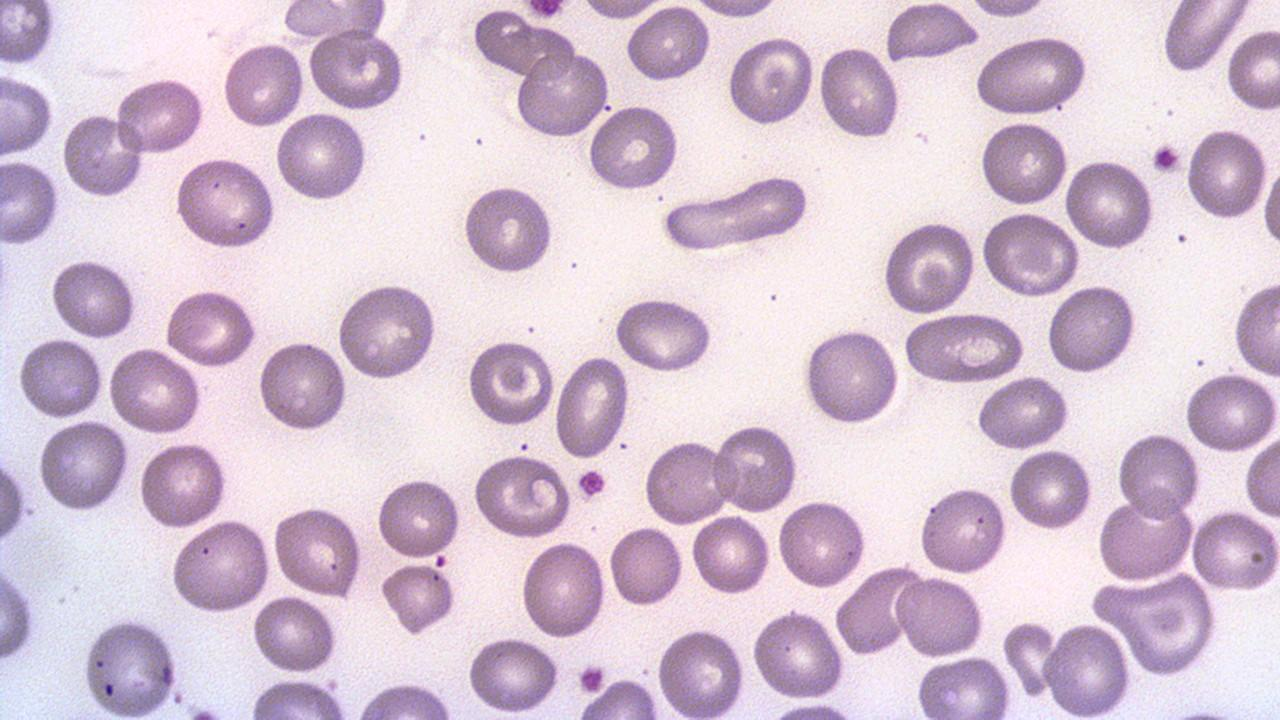Platelets: (1150, 141, 1184, 175), (576, 466, 608, 500)
RBC: (663, 172, 809, 258), (335, 279, 440, 382), (1113, 573, 1215, 679), (800, 326, 903, 428), (79, 616, 182, 717), (169, 516, 273, 616), (173, 155, 278, 252), (974, 34, 1090, 118), (880, 217, 976, 318), (902, 311, 1028, 386), (1095, 491, 1197, 583), (518, 538, 608, 642), (272, 109, 369, 205), (979, 208, 1081, 299), (750, 607, 847, 702), (1062, 155, 1156, 253), (35, 418, 130, 514), (271, 502, 364, 600), (470, 452, 574, 539), (462, 180, 556, 276), (1045, 282, 1139, 378), (256, 336, 349, 433), (512, 48, 610, 140), (464, 336, 558, 430), (1042, 620, 1134, 716), (586, 102, 682, 193), (656, 624, 748, 718), (776, 496, 868, 590), (917, 482, 1008, 577), (726, 33, 816, 129), (470, 4, 578, 83), (1184, 124, 1270, 223), (816, 42, 902, 141), (108, 347, 203, 436), (138, 440, 230, 530), (1183, 369, 1279, 455), (610, 296, 717, 373), (306, 29, 406, 111), (553, 354, 630, 460), (979, 118, 1069, 208), (713, 421, 799, 515), (375, 472, 463, 562), (642, 436, 730, 526), (974, 372, 1073, 452), (833, 566, 919, 658), (162, 287, 259, 368), (16, 335, 106, 422), (48, 256, 139, 342), (894, 574, 986, 659), (1117, 429, 1201, 522), (465, 634, 562, 714), (61, 109, 146, 200), (1008, 446, 1095, 534), (114, 74, 206, 157), (250, 592, 338, 677), (223, 40, 306, 130), (1190, 508, 1276, 594), (689, 510, 773, 598), (624, 3, 714, 85), (608, 523, 686, 609), (1158, 1, 1248, 74), (912, 654, 1014, 718), (379, 560, 459, 635), (884, 1, 980, 63), (0, 157, 61, 246), (1224, 26, 1280, 114), (1231, 278, 1279, 378), (0, 69, 54, 156), (244, 676, 353, 718), (274, 0, 393, 37), (0, 556, 38, 668), (352, 680, 458, 719), (0, 2, 57, 68), (576, 676, 662, 719), (1243, 430, 1279, 522), (0, 446, 27, 552), (764, 697, 861, 719), (1260, 154, 1280, 260), (690, 0, 786, 21), (578, 0, 660, 22), (964, 0, 1047, 20)
